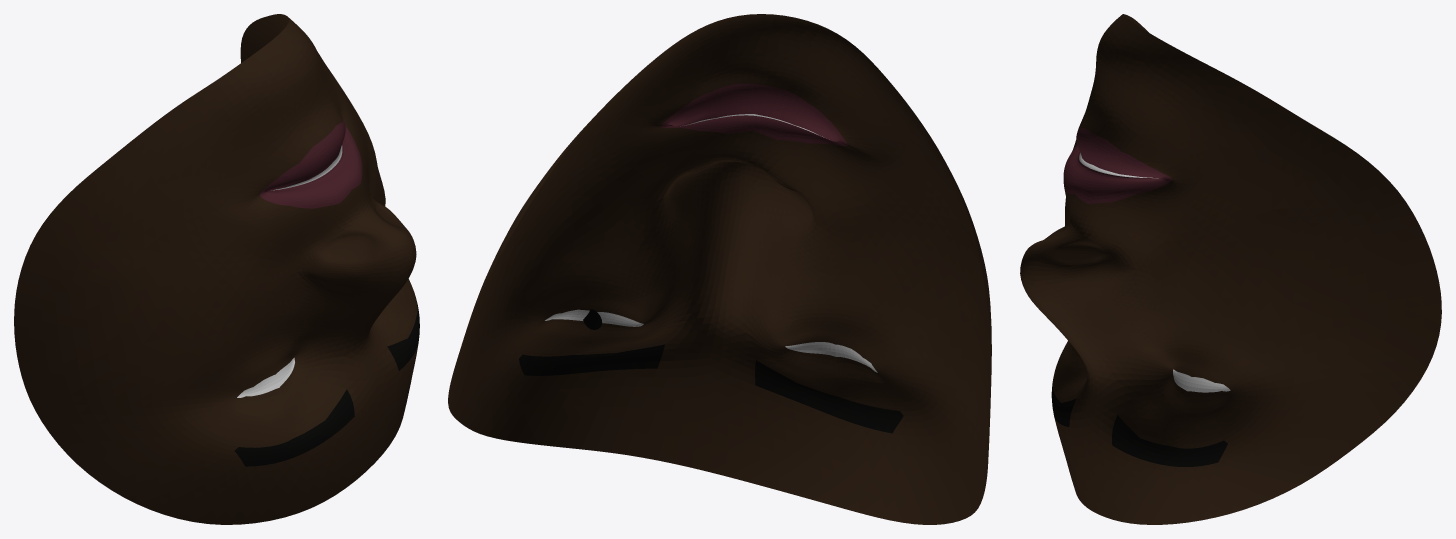
The model's file is frame_00157.obj.
3 views of the same model, side by side, from view 1: azimuth 30°, elevation 25°; view 2: azimuth 150°, elevation 25°; view 3: azimuth 270°, elevation 25° (orthographic). The views are drawn at different scales.
Parts seen in each view (by area): view 1: face_mesh_subdivided; view 2: face_mesh_subdivided; view 3: face_mesh_subdivided.
Boxes of the visible parts, box(x1,y1,x2,y2) form: face_mesh_subdivided: box(14, 14, 419, 524); face_mesh_subdivided: box(448, 14, 991, 524); face_mesh_subdivided: box(1020, 14, 1441, 524).
Bounding box in the file's own units: 0.4984 × 0.527 × 0.4334.
